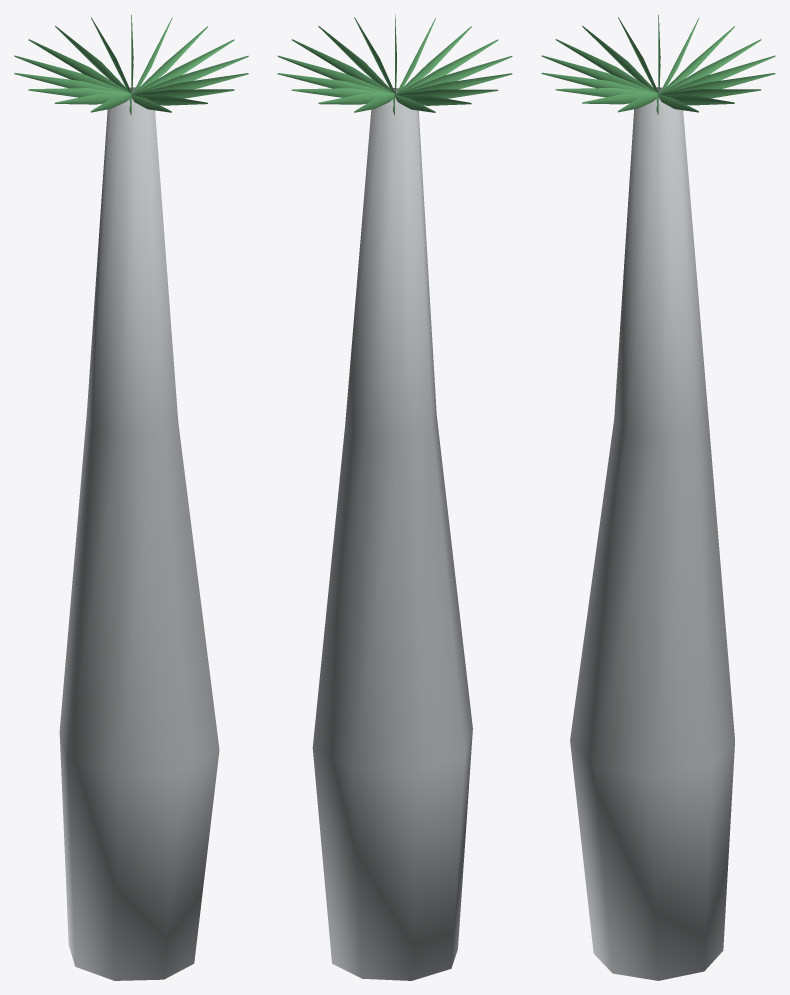
File: succulent_bottle_tree.glb
The picture shows the model from 3 angles, left to right: view 1: azimuth 30°, elevation 25°; view 2: azimuth 150°, elevation 25°; view 3: azimuth 270°, elevation 25°; orthographic projection.
Visible parts, largest first — view 1: Flora_Bottle_Tree; view 2: Flora_Bottle_Tree; view 3: Flora_Bottle_Tree.
Boxes of the visible parts, x1=… form: Flora_Bottle_Tree: x1=14, y1=15, x2=248, y2=980; Flora_Bottle_Tree: x1=277, y1=14, x2=512, y2=980; Flora_Bottle_Tree: x1=541, y1=15, x2=775, y2=980.
Size of the model in its own units: 0.806 by 3.33 by 0.7941.
